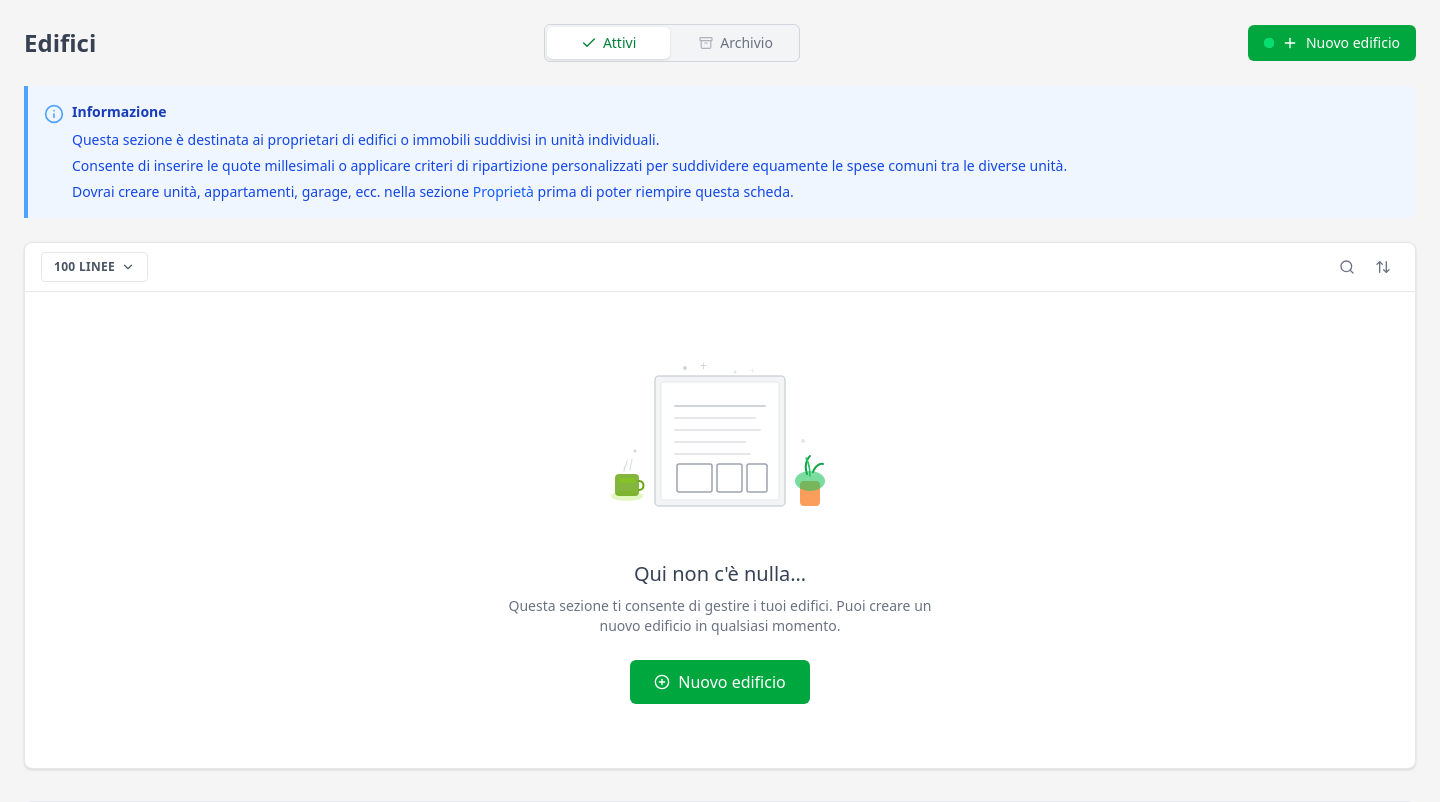
Scenario: A3 consolidated building routing gate › attraversa empty state e CTA fino alla pagina Nuovo edificio reale
Click the button titled "Cerca".
click(1347, 267)  # box [1331,251,1363,283]
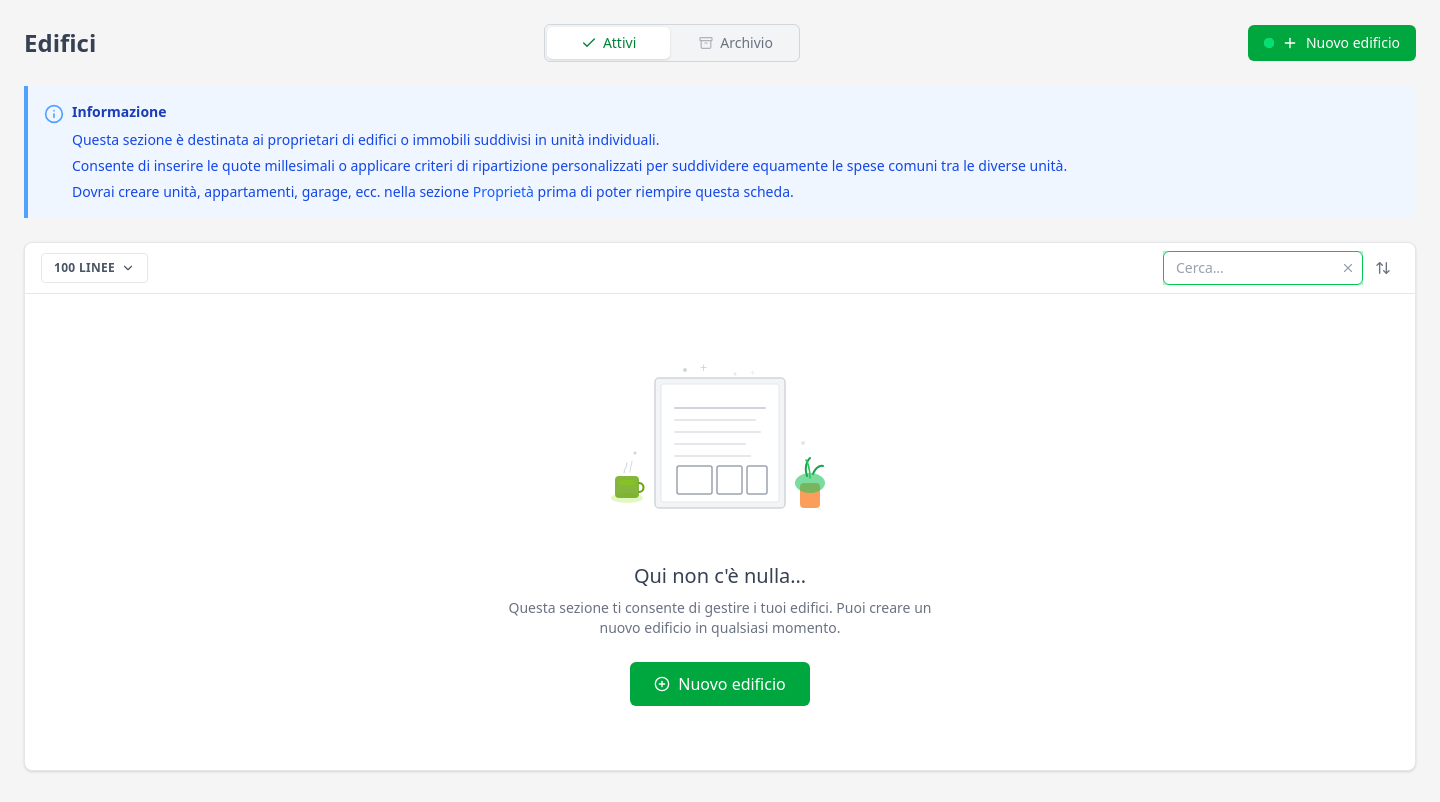
Type "__a3_3_gate_empty__" into the search field.
click(1263, 268); type("__a3_3_gate_empty__")  # box [1163,251,1363,285]
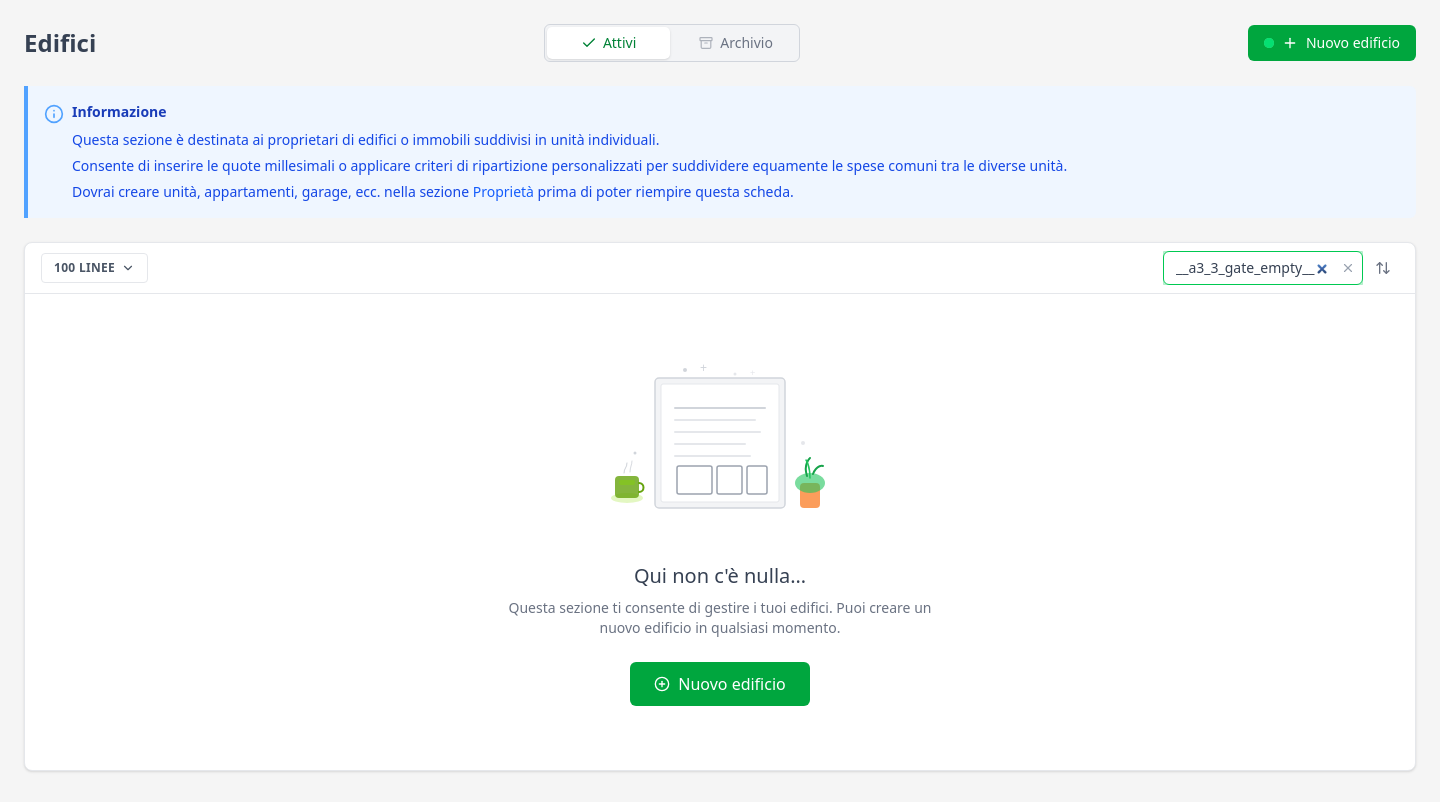
Expected: the text "Questa sezione ti consente di gestire i tuoi edifici. Puoi creare un nuovo edificio in qualsiasi momento." is shown, [508,598,931,637]
Click the button "Nuovo edificio" below "Qui non c'è nulla…".
click(720, 684)  # box [630,662,810,706]
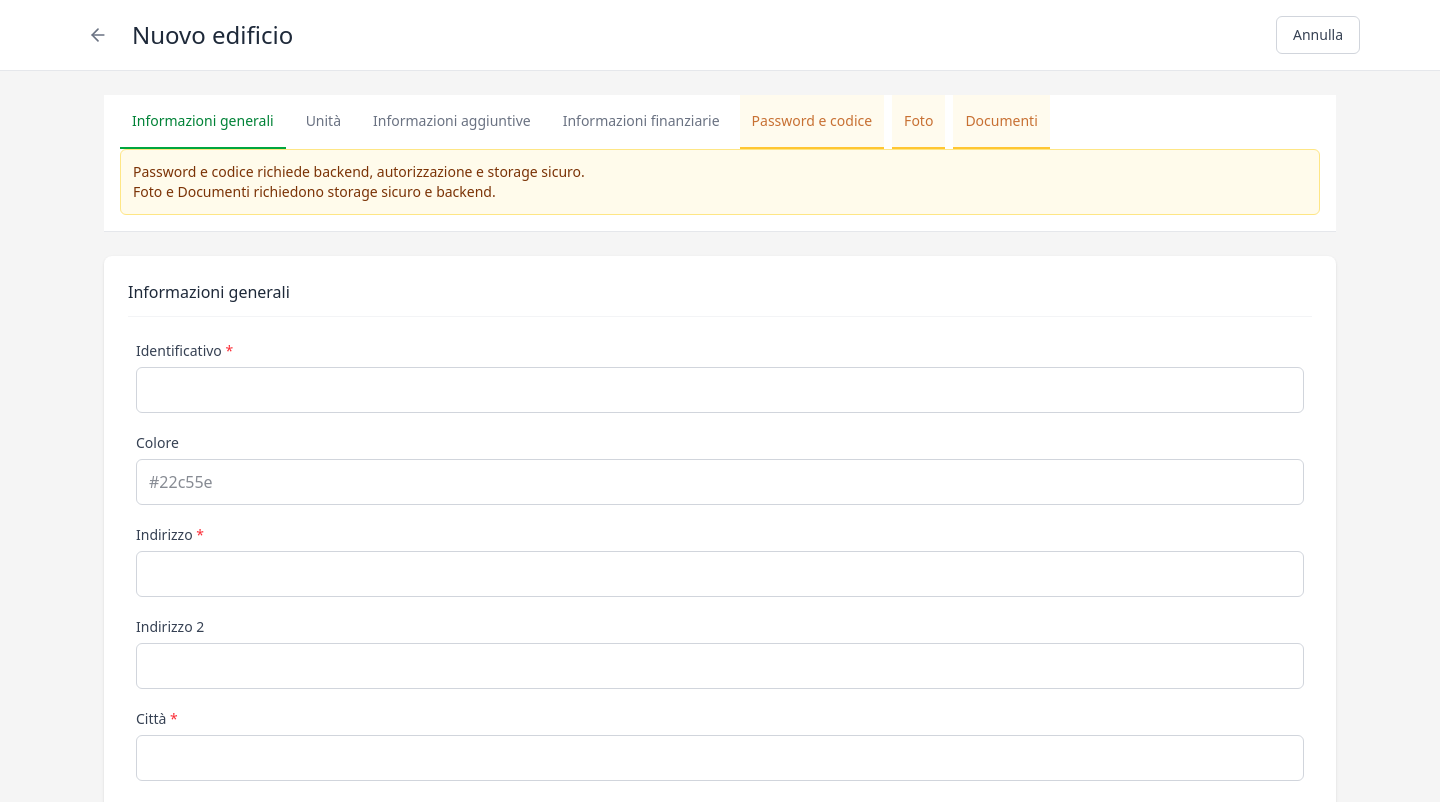
Result: the heading "Nuovo edificio" is shown at [132,19,293,51]
